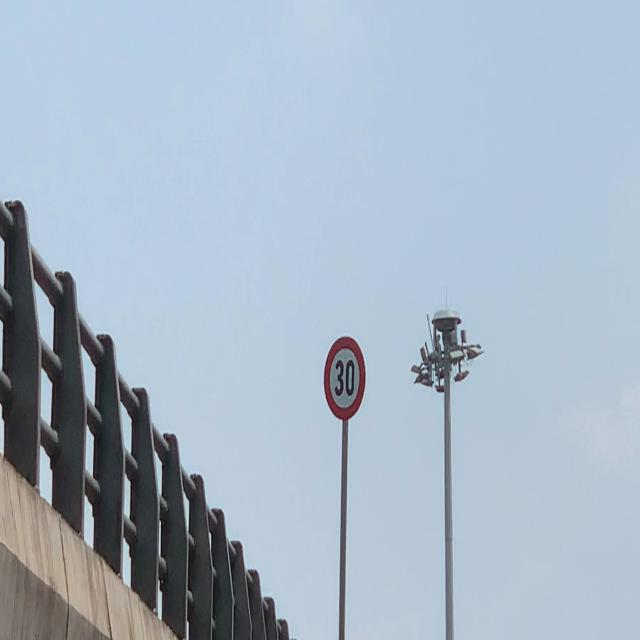Toc do toi da: (321, 333, 367, 421)
